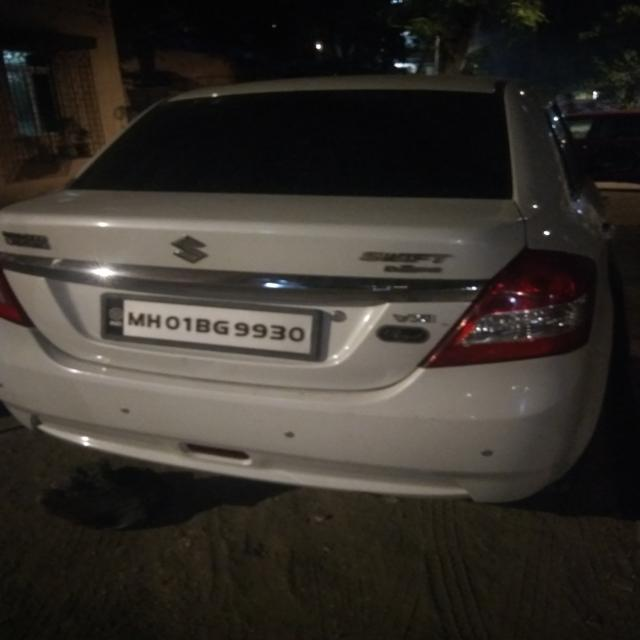Number-Plate: (117, 296, 316, 351)
